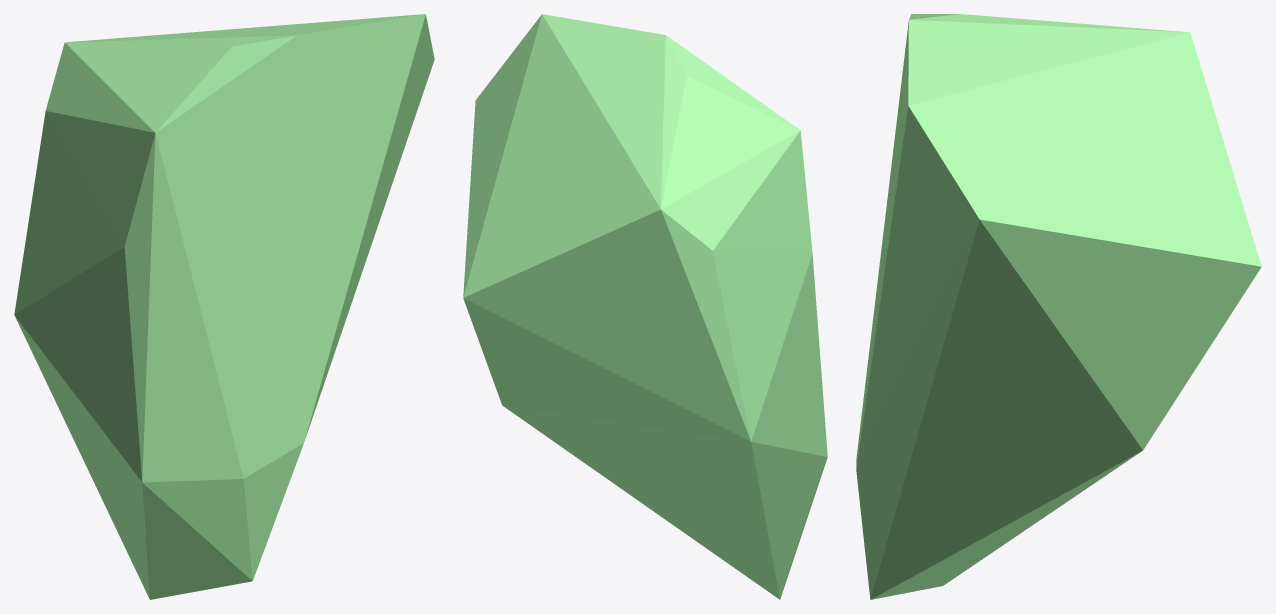
File: dvkr_robot_L3_dx_respondable_TOOL1_coll_8.dae
3 views of the same model, side by side, from view 1: azimuth 30°, elevation 25°; view 2: azimuth 150°, elevation 25°; view 3: azimuth 270°, elevation 25° (orthographic). The views are drawn at different scales.
Visible parts, largest first — view 1: Node_0000023514CD8050; view 2: Node_0000023514CD8050; view 3: Node_0000023514CD8050.
Part boxes in pixels (<box>): Node_0000023514CD8050: <box>14,14,434,599</box>; Node_0000023514CD8050: <box>463,14,827,599</box>; Node_0000023514CD8050: <box>856,14,1261,599</box>.
Size of the model in its own units: 0.00194 by 0.00285 by 0.00163.
